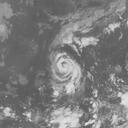cyclone: (46, 48, 85, 99)
